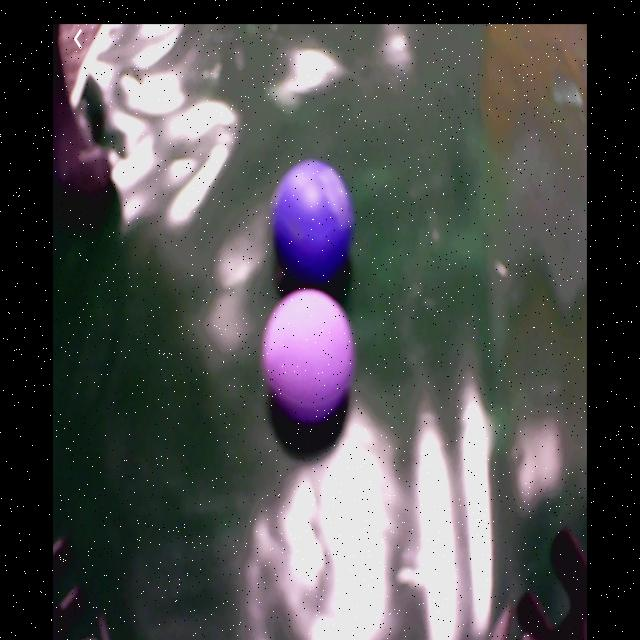ball: (261, 288, 354, 426), (274, 159, 356, 286)
